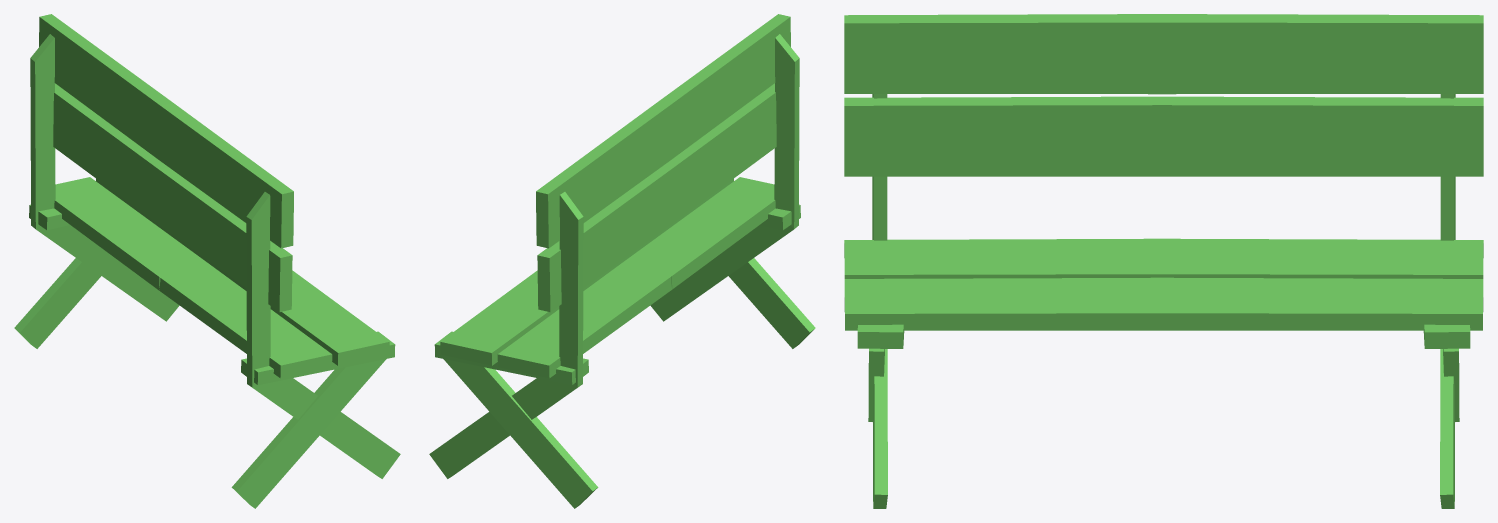
Rendered from bench01.fbx.
3 renders of one model, left to right at view 1: azimuth 30°, elevation 25°; view 2: azimuth 150°, elevation 25°; view 3: azimuth 270°, elevation 25°, orthographic. The views are drawn at different scales.
Parts seen in each view (by area): view 1: Cube.002; view 2: Cube.002; view 3: Cube.002.
Boxes of the visible parts, x1,y1,x2,y2 form: Cube.002: (14, 14, 400, 508); Cube.002: (429, 14, 815, 508); Cube.002: (844, 14, 1483, 508).
Size of the model in its own units: 44.95 by 83.33 by 114.
